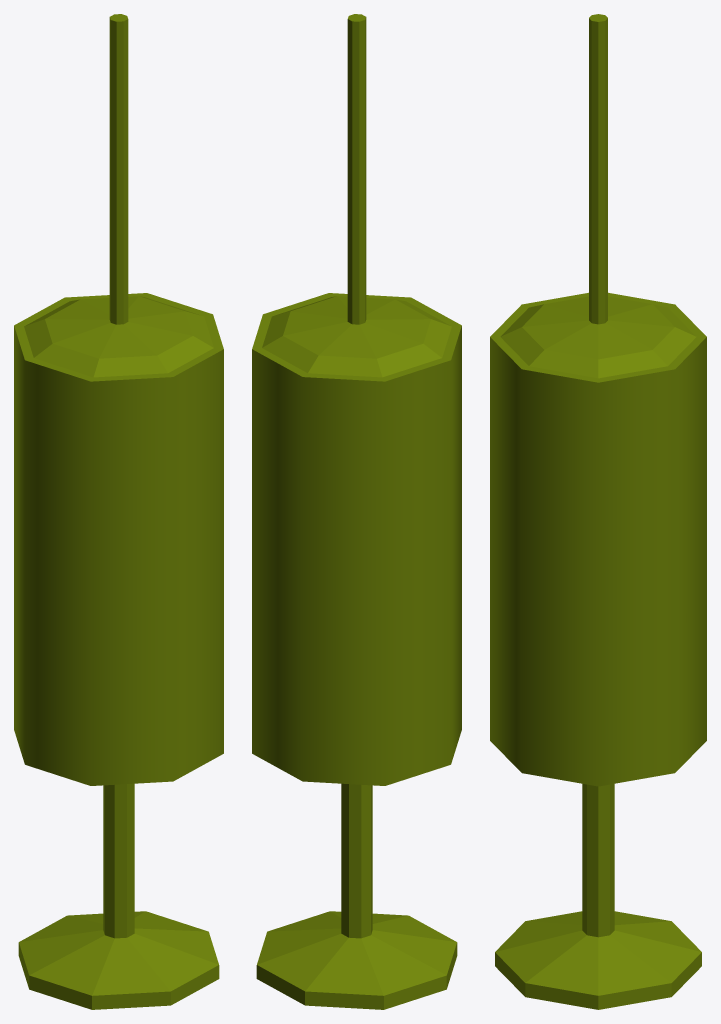
The model's file is Syringe.obj.
3 renders of one model, left to right at view 1: azimuth 30°, elevation 25°; view 2: azimuth 150°, elevation 25°; view 3: azimuth 270°, elevation 25°, orthographic.
Visible parts, largest first — view 1: Cylinder001; view 2: Cylinder001; view 3: Cylinder001.
Part boxes in pixels (x1=…): Cylinder001: x1=14, y1=14, x2=223, y2=1009; Cylinder001: x1=252, y1=14, x2=461, y2=1009; Cylinder001: x1=490, y1=14, x2=706, y2=1009.
Bounding box in the file's own units: 40 × 193 × 40.
